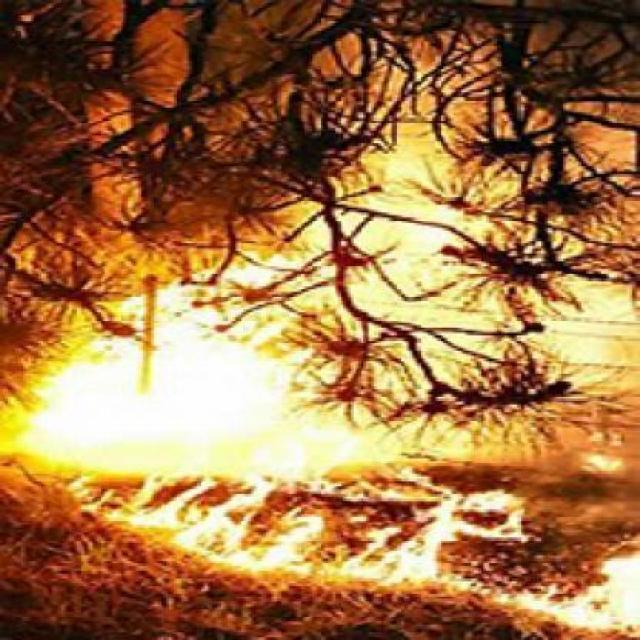Fire: (0, 200, 637, 634)
